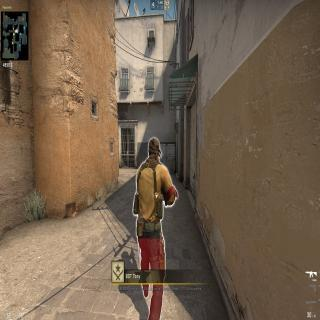T-Head: (147, 135, 163, 163)
